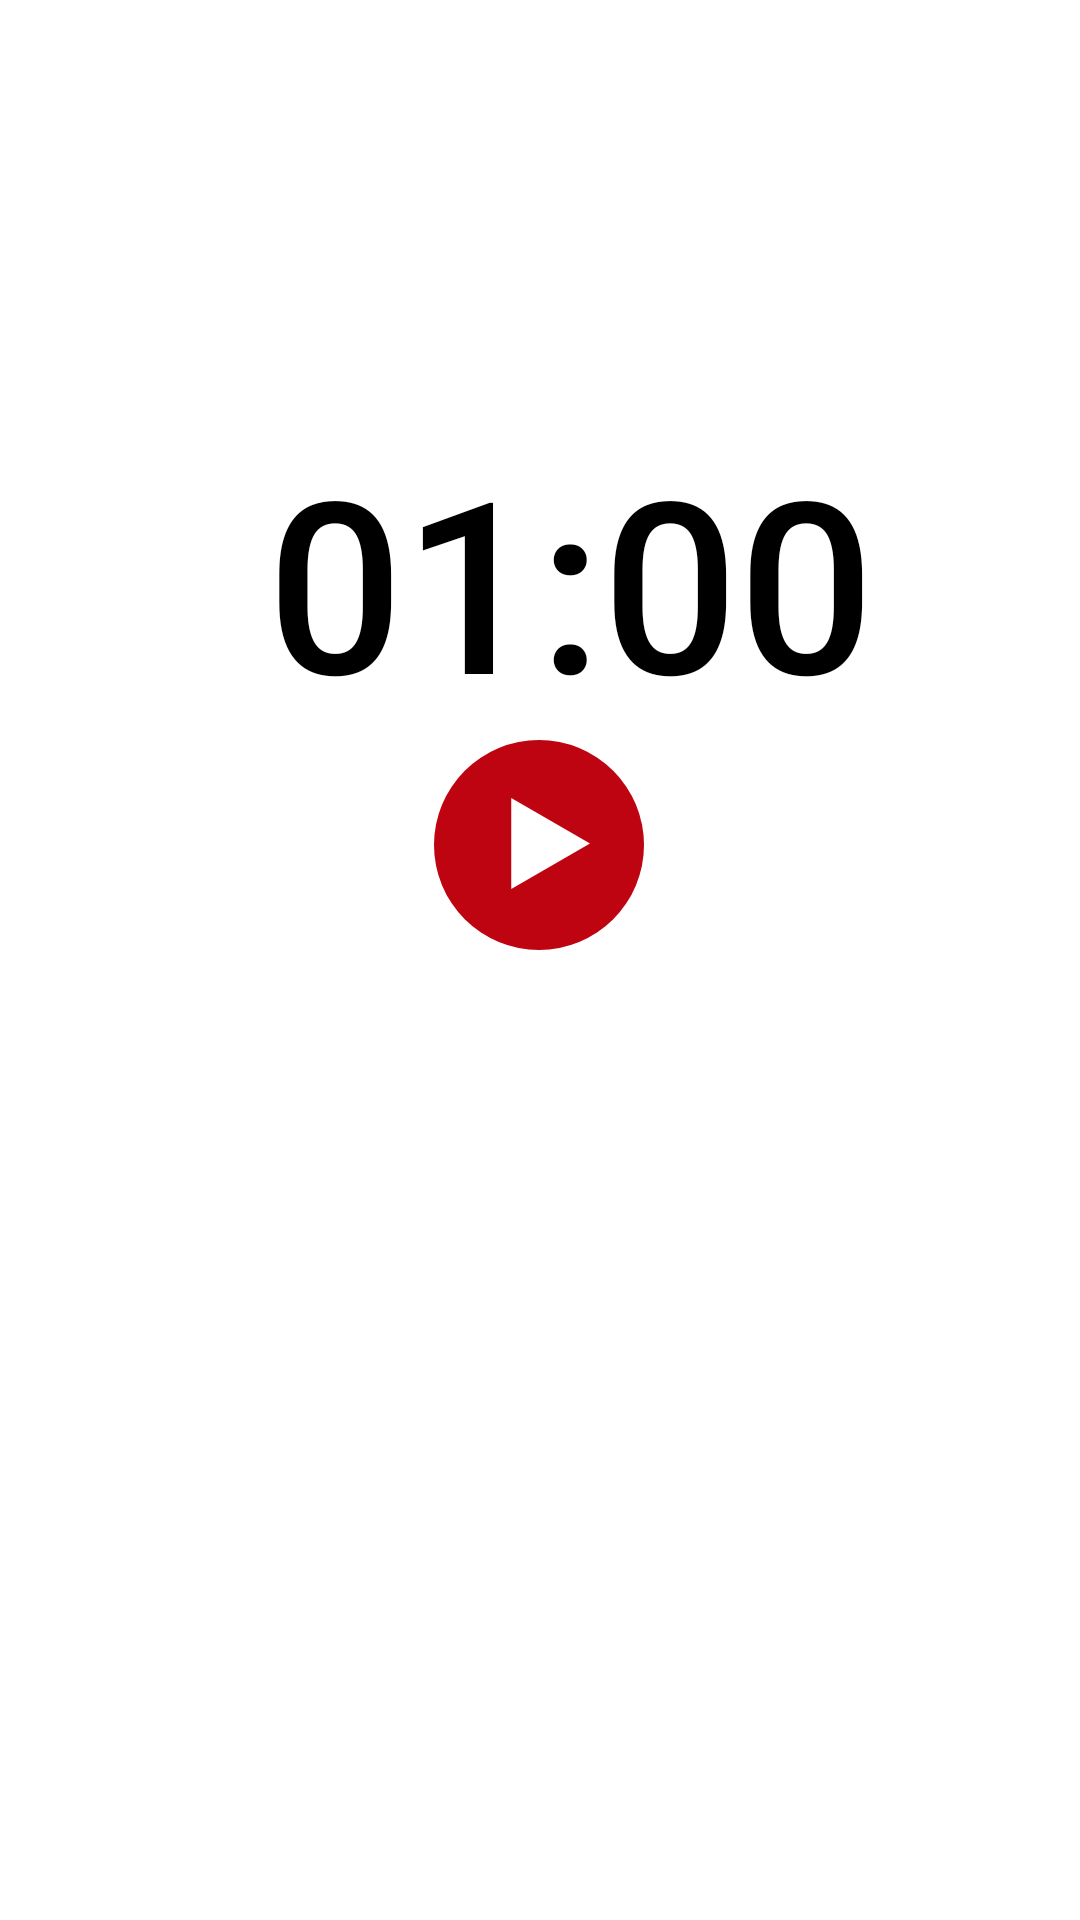

Locate icon controls on the screen. Image size 1080*1920, boxes as box=[x1, y1, x2, y2].
play button: box=[434, 740, 644, 950]
